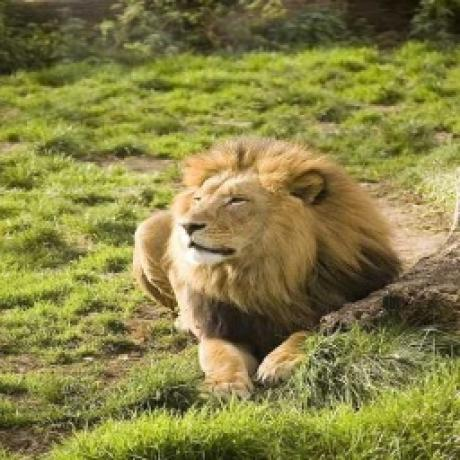Lion: (132, 125, 405, 400)
